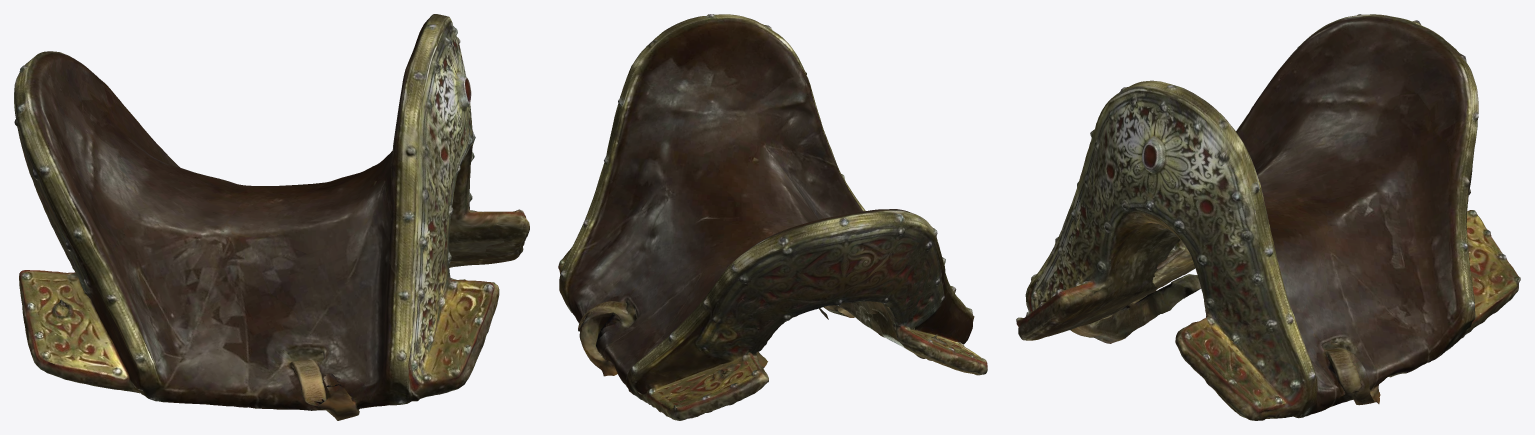
Rendered from sedlo.glb.
The picture shows the model from 3 angles, left to right: view 1: azimuth 30°, elevation 25°; view 2: azimuth 150°, elevation 25°; view 3: azimuth 270°, elevation 25°; orthographic projection. The views are drawn at different scales.
Visible parts, largest first — view 1: Default; view 2: Default; view 3: Default.
Part boxes in pixels (x1,y1,x2,y2): Default: (14, 14, 529, 420); Default: (558, 14, 987, 420); Default: (1016, 14, 1520, 420).
Bounding box in the file's own units: 239 × 157 × 229.
Materials: 1 (1 with a texture image).
